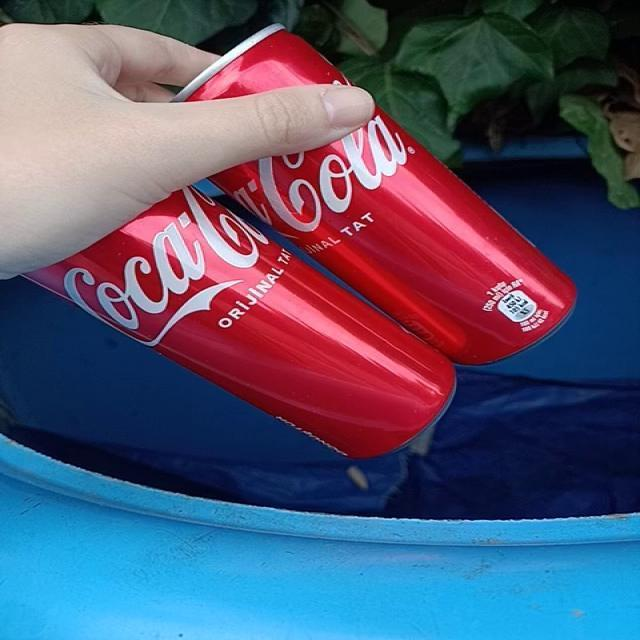Bin: (1, 139, 640, 640)
Metal: (27, 188, 455, 458), (213, 109, 576, 364), (177, 25, 347, 100)
